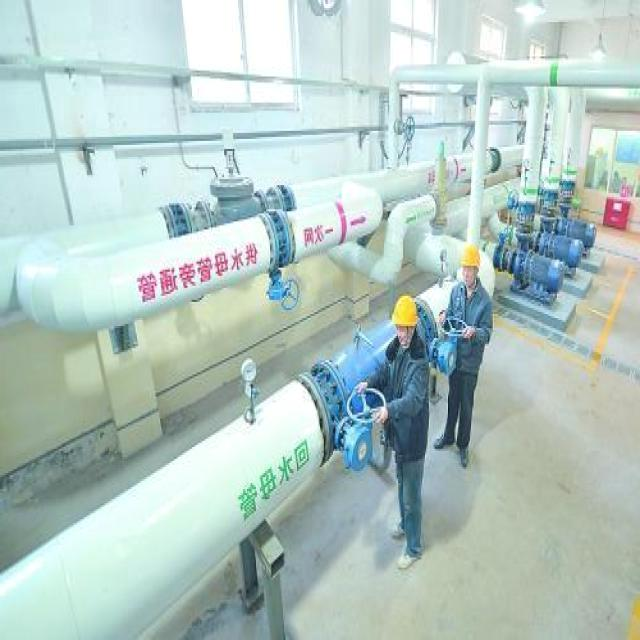face_nomask: (393, 320, 413, 345), (459, 263, 476, 288)
hand_noglove: (367, 403, 392, 428), (354, 377, 370, 397), (460, 323, 476, 340), (438, 308, 450, 322)
head_helmet: (390, 294, 420, 329), (457, 241, 485, 272)
person: (368, 291, 437, 577), (432, 240, 495, 471)
shoes: (397, 542, 425, 571), (385, 516, 412, 542), (433, 432, 458, 450), (456, 442, 472, 469)
